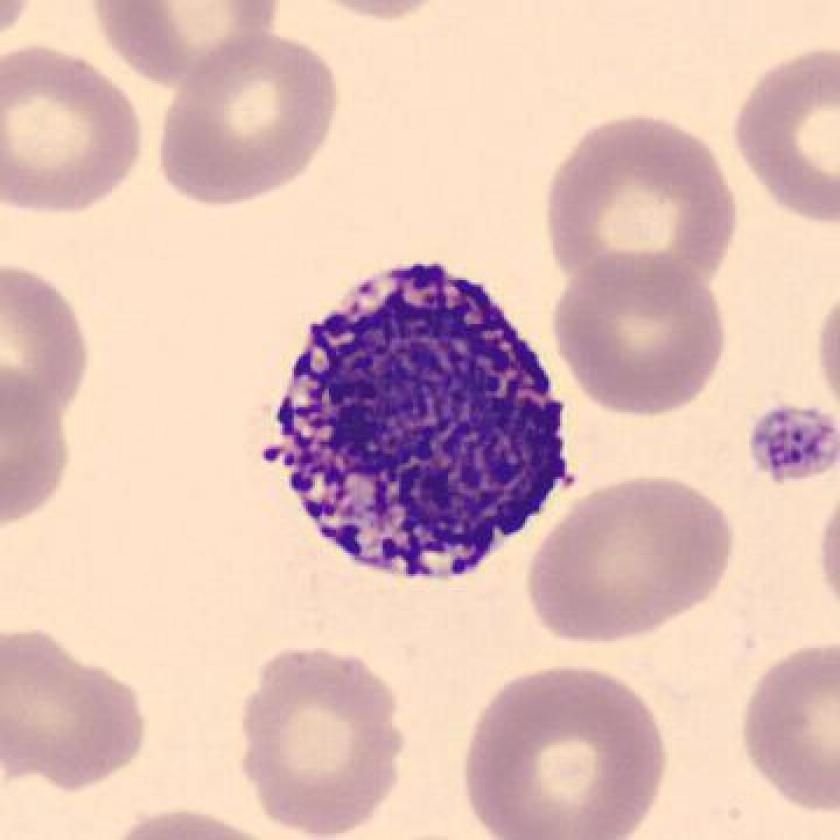basophil: (267, 249, 584, 589)
